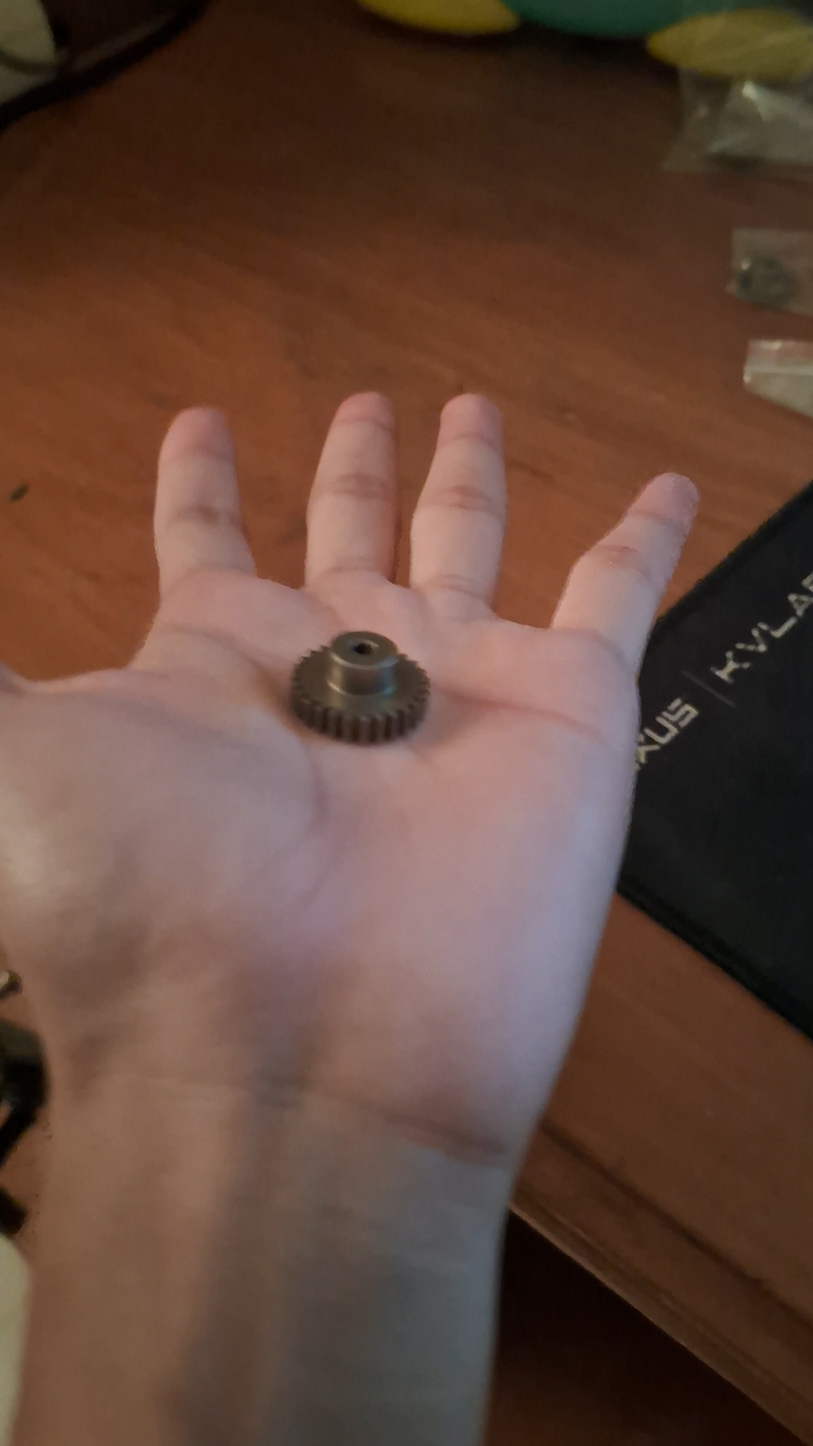spur gear: (290, 631, 430, 746)
